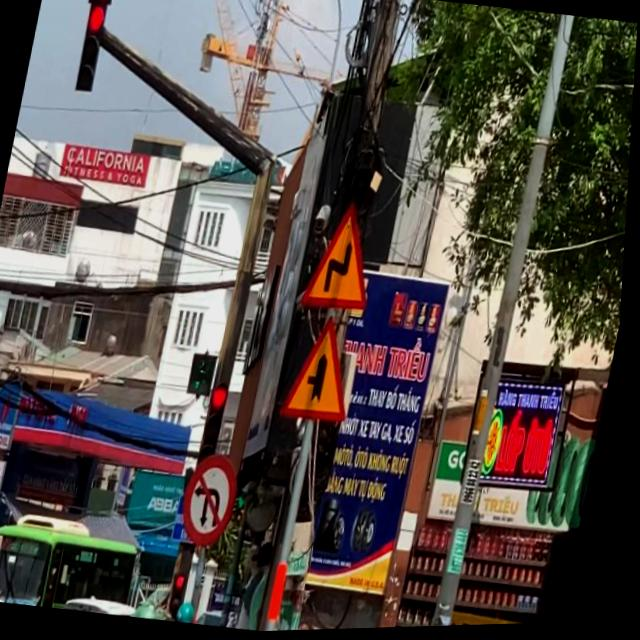Giao nhau voi duong khong uu tien ben trai: (283, 311, 371, 427)
Nhieu cho ngoat lien tiep ben phai: (301, 197, 390, 322)
